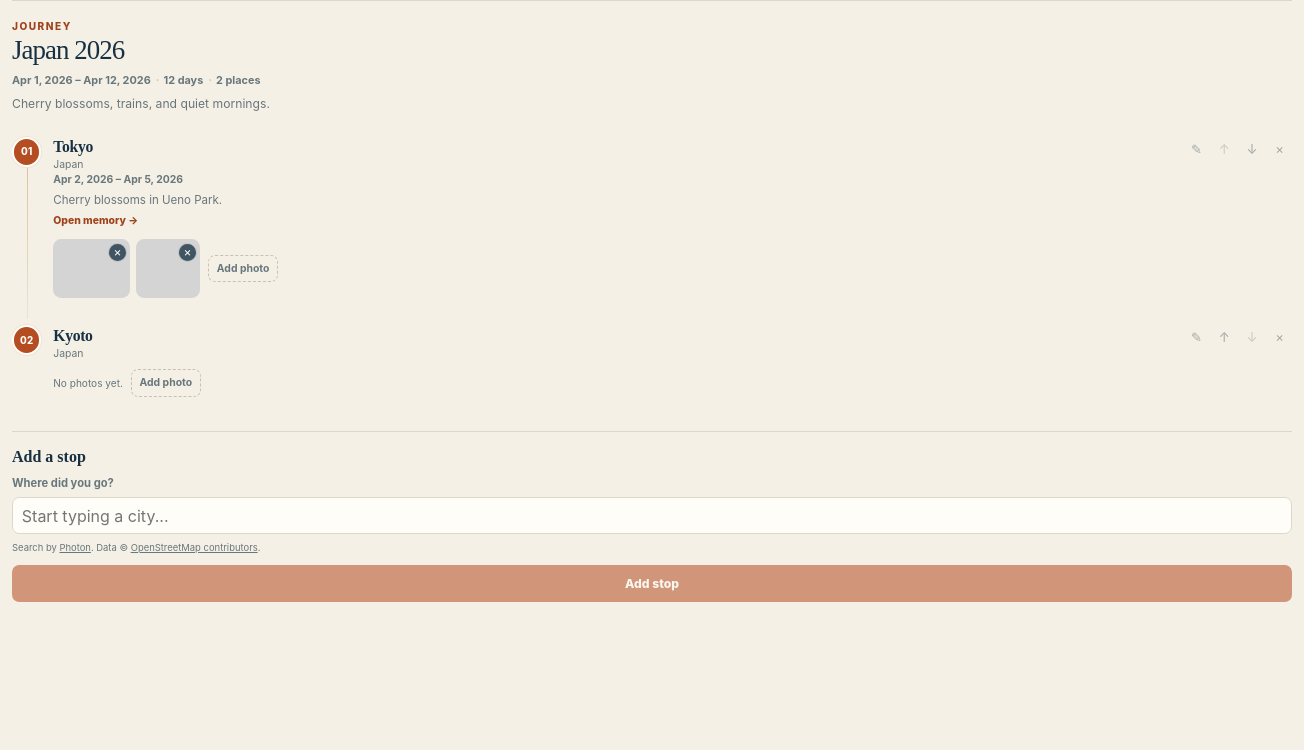
Itinerary journal › shows validation feedback before submitting invalid stop dates
This screenshot has width=1304, height=750.
Click the button named "Edit journal for Tokyo" at (1197, 150), box x1=1184 y1=137 x2=1209 y2=162
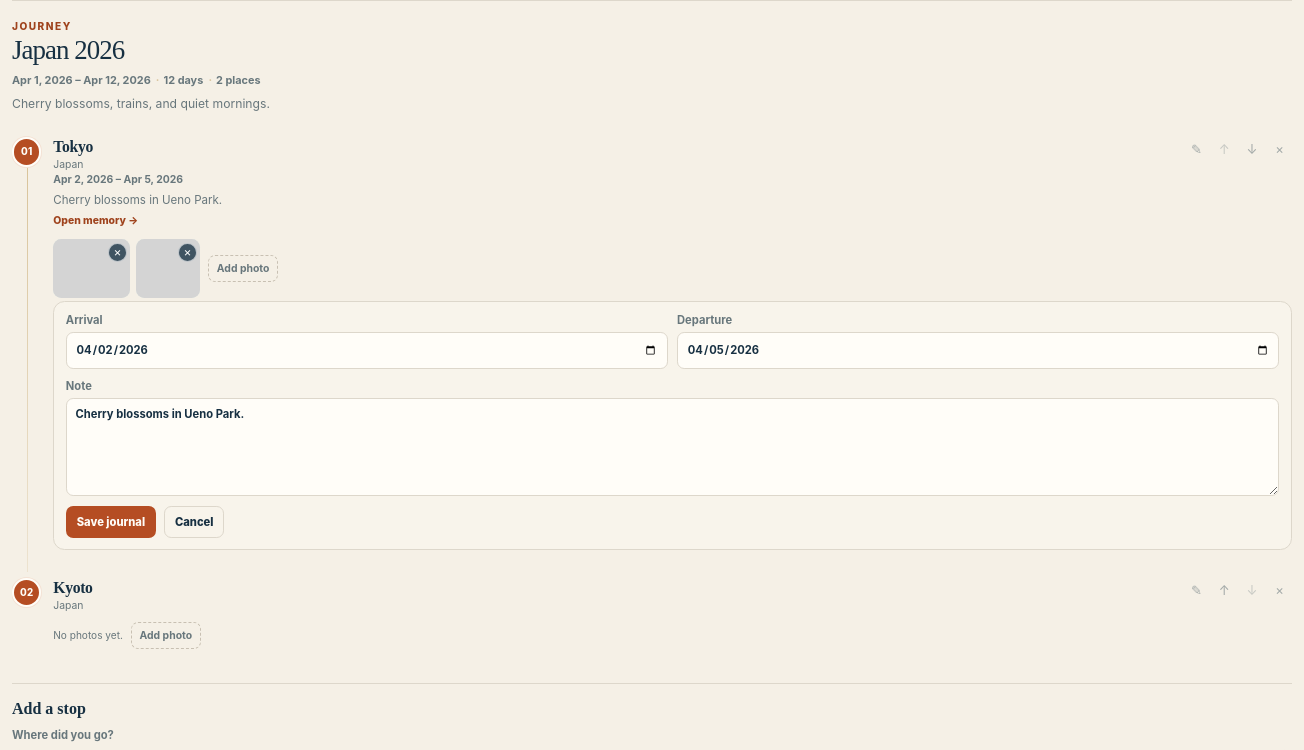
Type "2026-04-08" into the date field labelled "Arrival" at (367, 350), box x1=66 y1=332 x2=668 y2=369
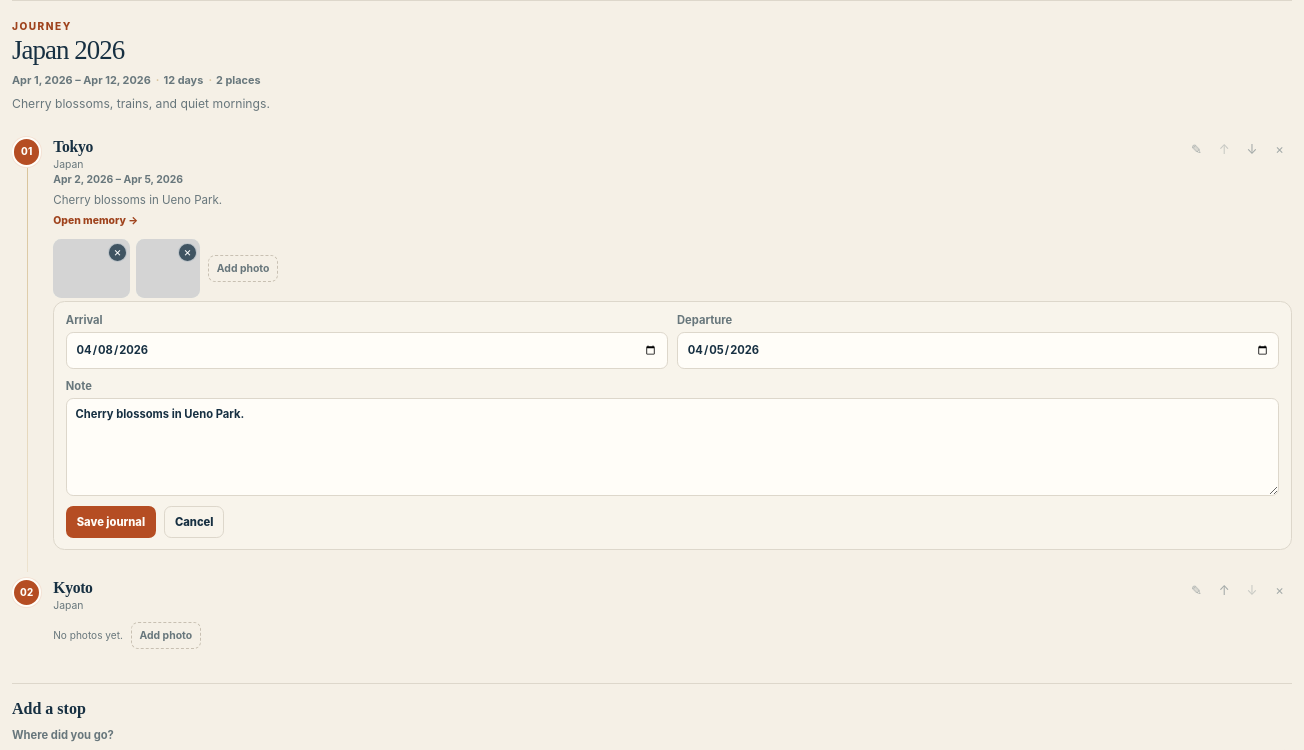
Type "2026-04-07" into the date field labelled "Departure" at (978, 350), box x1=677 y1=332 x2=1280 y2=369
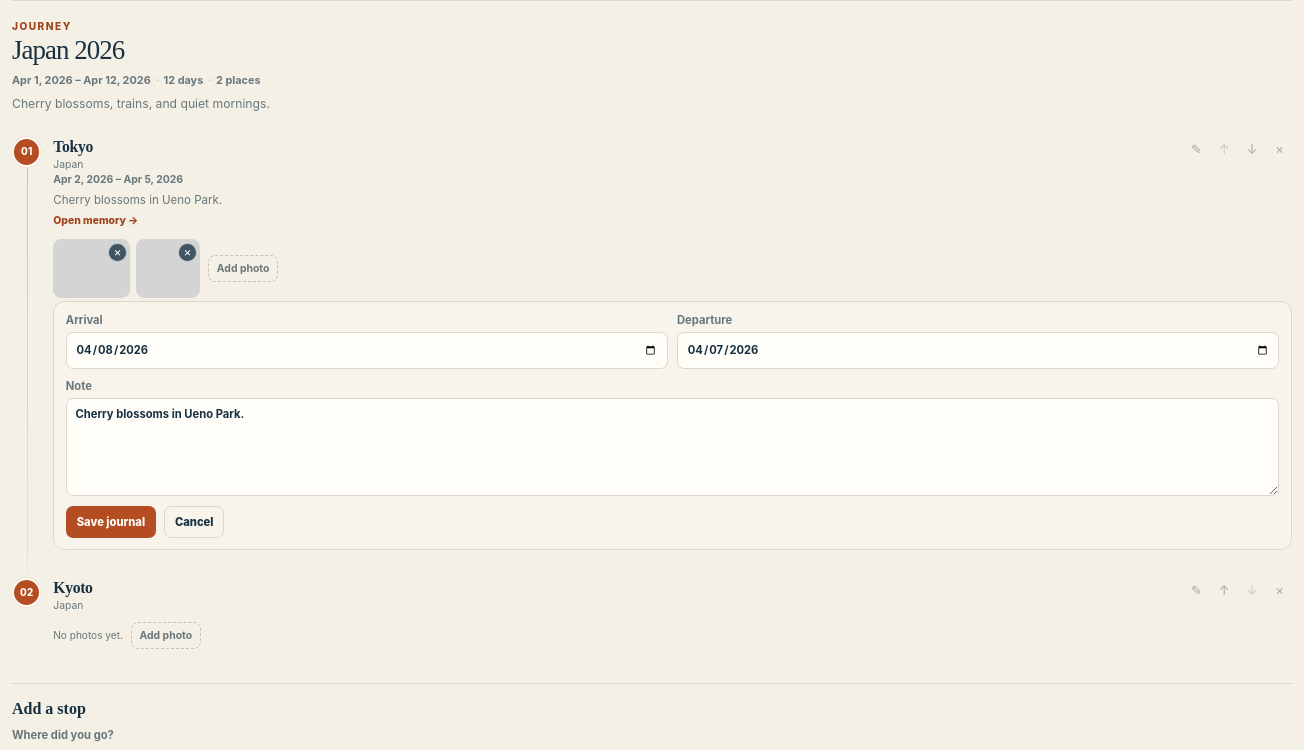
Submit the form "Save journal", box x1=53 y1=301 x2=1292 y2=550
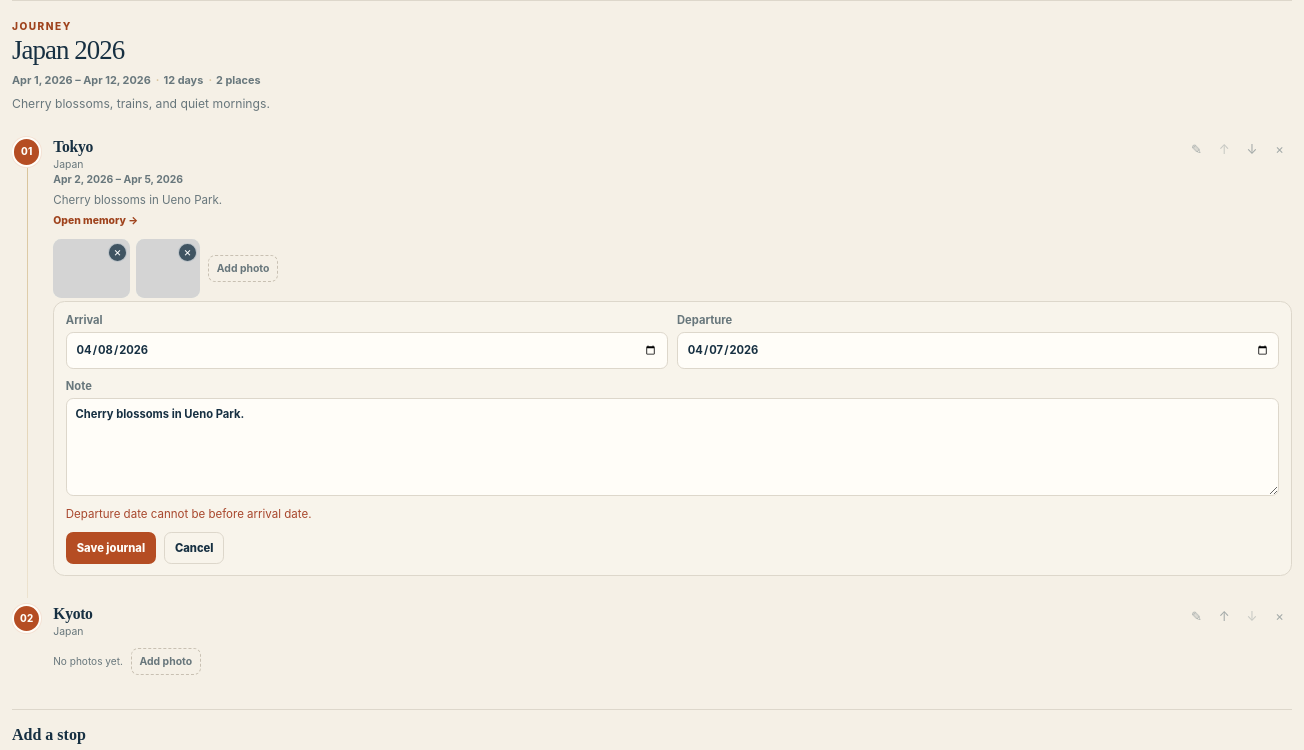
Expected: the message reads "Departure date cannot be before arrival date.", x1=66 y1=507 x2=312 y2=521
